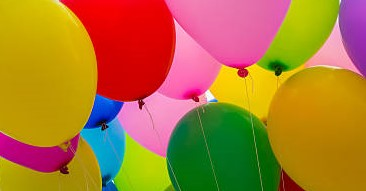Balloon: (1, 1, 97, 148), (268, 66, 366, 191), (169, 102, 281, 191), (165, 1, 291, 68)
